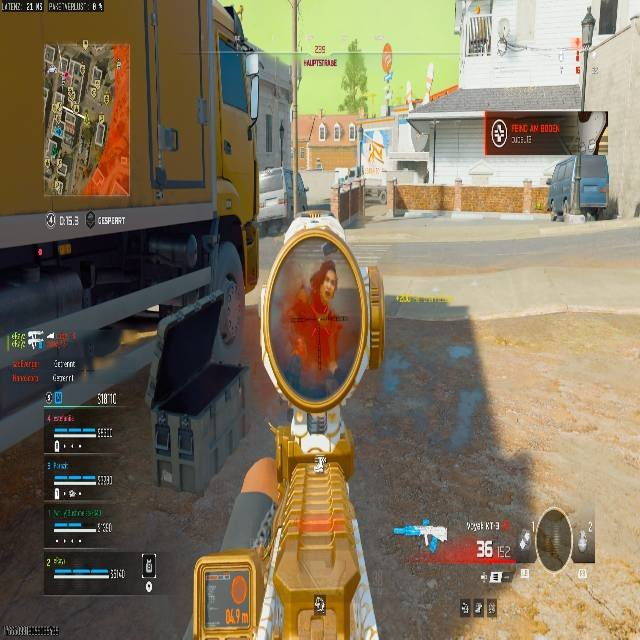player: (287, 287, 327, 363)
